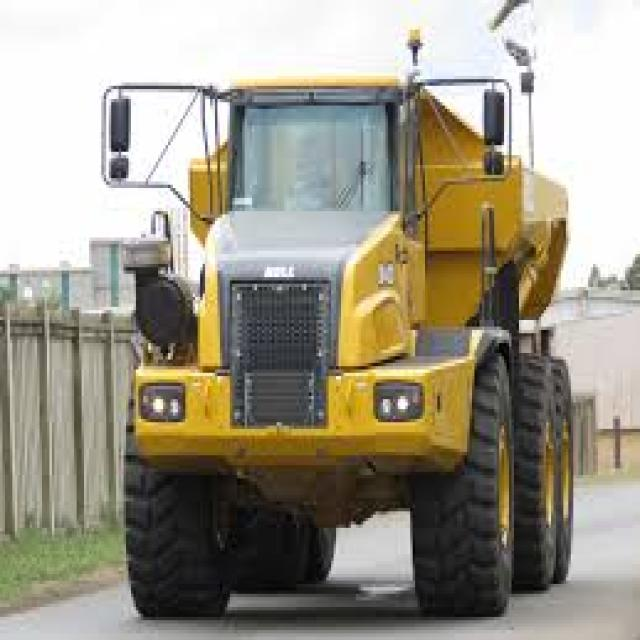dump_truck: (87, 43, 606, 630)
